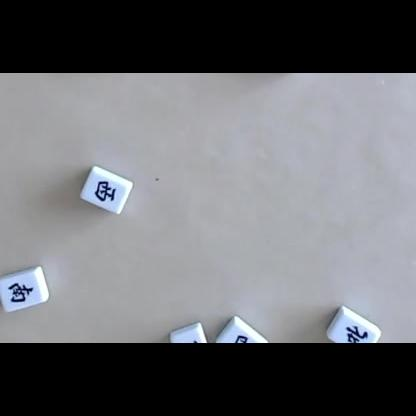2z: (7, 282, 34, 303), (180, 338, 201, 343)
3z: (95, 181, 116, 202), (232, 334, 253, 343)
4z: (344, 324, 368, 343)
